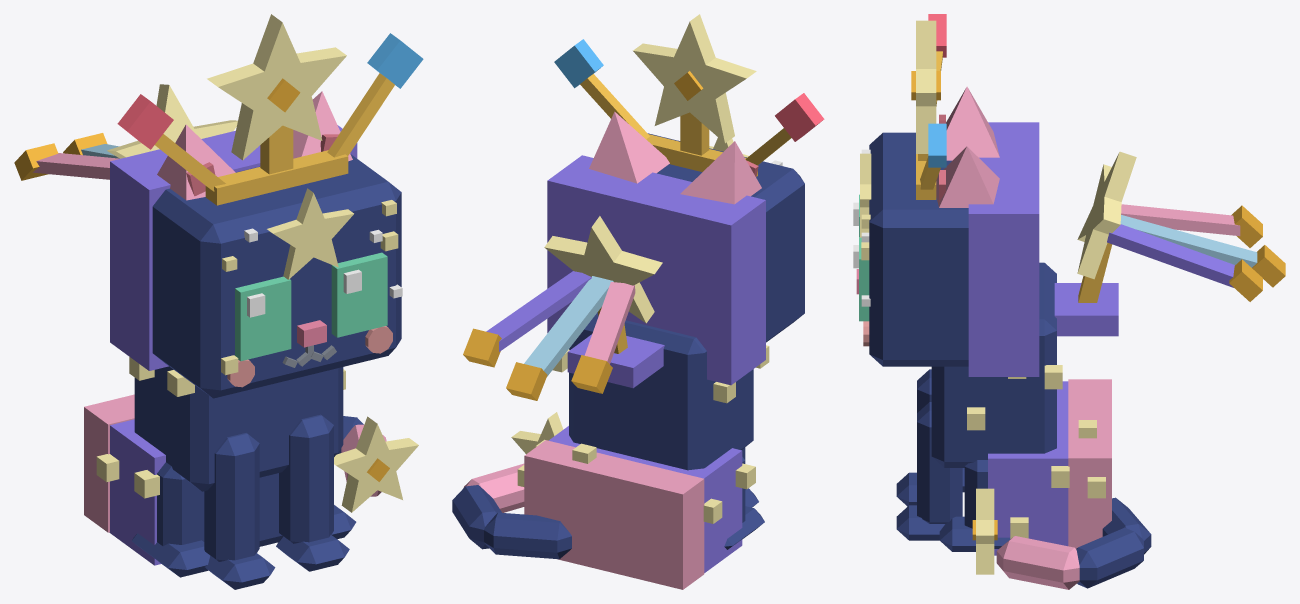
The model's file is CleanACat_Cat_Stardust_Sit.fbx.
3 views of the same model, side by side, from view 1: azimuth 30°, elevation 25°; view 2: azimuth 150°, elevation 25°; view 3: azimuth 270°, elevation 25° (orthographic). The views are drawn at different scales.
Parts seen in each view (by area): view 1: CleanACat_Cat_Stardust_Sit_Head, CleanACat_Cat_Stardust_Sit_Body, CleanACat_Cat_Stardust_Sit_Prop, CleanACat_Cat_Stardust_Sit_LegF2, CleanACat_Cat_Stardust_Sit_LegF1, CleanACat_Cat_Stardust_Sit_Eye2, CleanACat_Cat_Stardust_Sit_Eye1, CleanACat_Cat_Stardust_Sit_Prop2, CleanACat_Cat_Stardust_Sit_Glow, CleanACat_Cat_Stardust_Sit_Tail_Star, CleanACat_Cat_Stardust_Sit_EarR, CleanACat_Cat_Stardust_Sit_EarL (+2 smaller); view 2: CleanACat_Cat_Stardust_Sit_Body, CleanACat_Cat_Stardust_Sit_Head, CleanACat_Cat_Stardust_Sit_Prop2, CleanACat_Cat_Stardust_Sit_Prop, CleanACat_Cat_Stardust_Sit_Tail, CleanACat_Cat_Stardust_Sit_Comet_Glow, CleanACat_Cat_Stardust_Sit_EarL, CleanACat_Cat_Stardust_Sit_Glow, CleanACat_Cat_Stardust_Sit_EarR, CleanACat_Cat_Stardust_Sit_Tail_Star; view 3: CleanACat_Cat_Stardust_Sit_Head, CleanACat_Cat_Stardust_Sit_Body, CleanACat_Cat_Stardust_Sit_Prop2, CleanACat_Cat_Stardust_Sit_Tail, CleanACat_Cat_Stardust_Sit_LegF1, CleanACat_Cat_Stardust_Sit_Prop, CleanACat_Cat_Stardust_Sit_EarL, CleanACat_Cat_Stardust_Sit_Comet_Glow, CleanACat_Cat_Stardust_Sit_EarR, CleanACat_Cat_Stardust_Sit_Glow, CleanACat_Cat_Stardust_Sit_Tail_Star, CleanACat_Cat_Stardust_Sit_LegF2 (+1 smaller).
Part boxes in pixels (box(x1,y1,x2,y2)): CleanACat_Cat_Stardust_Sit_Head: box(110, 125, 402, 398); CleanACat_Cat_Stardust_Sit_Body: box(84, 357, 356, 577); CleanACat_Cat_Stardust_Sit_Prop: box(155, 14, 394, 205); CleanACat_Cat_Stardust_Sit_LegF2: box(204, 433, 275, 589); CleanACat_Cat_Stardust_Sit_LegF1: box(276, 414, 349, 571); CleanACat_Cat_Stardust_Sit_Eye2: box(235, 276, 291, 361); CleanACat_Cat_Stardust_Sit_Eye1: box(331, 252, 387, 337); CleanACat_Cat_Stardust_Sit_Prop2: box(32, 84, 237, 179); CleanACat_Cat_Stardust_Sit_Glow: box(117, 33, 423, 149); CleanACat_Cat_Stardust_Sit_Tail_Star: box(334, 416, 418, 512); CleanACat_Cat_Stardust_Sit_EarR: box(157, 124, 235, 200); CleanACat_Cat_Stardust_Sit_EarL: box(293, 91, 352, 161); CleanACat_Cat_Stardust_Sit_Body: box(517, 313, 769, 589); CleanACat_Cat_Stardust_Sit_Head: box(547, 133, 804, 385); CleanACat_Cat_Stardust_Sit_Prop2: box(486, 216, 664, 388); CleanACat_Cat_Stardust_Sit_Prop: box(580, 14, 791, 176); CleanACat_Cat_Stardust_Sit_Tail: box(452, 463, 571, 559); CleanACat_Cat_Stardust_Sit_Comet_Glow: box(463, 328, 612, 400); CleanACat_Cat_Stardust_Sit_EarL: box(589, 111, 669, 183); CleanACat_Cat_Stardust_Sit_Glow: box(554, 39, 824, 141); CleanACat_Cat_Stardust_Sit_EarR: box(680, 141, 761, 204); CleanACat_Cat_Stardust_Sit_Tail_Star: box(511, 412, 563, 454); CleanACat_Cat_Stardust_Sit_Head: box(856, 122, 1039, 376); CleanACat_Cat_Stardust_Sit_Body: box(931, 262, 1111, 555); CleanACat_Cat_Stardust_Sit_Prop2: box(1054, 151, 1257, 336); CleanACat_Cat_Stardust_Sit_Tail: box(996, 497, 1151, 589); CleanACat_Cat_Stardust_Sit_LegF1: box(896, 402, 962, 540); CleanACat_Cat_Stardust_Sit_Prop: box(916, 20, 942, 199); CleanACat_Cat_Stardust_Sit_EarL: box(936, 146, 999, 207); CleanACat_Cat_Stardust_Sit_Comet_Glow: box(1229, 205, 1285, 301); CleanACat_Cat_Stardust_Sit_EarR: box(939, 86, 999, 160); CleanACat_Cat_Stardust_Sit_Glow: box(911, 14, 946, 167); CleanACat_Cat_Stardust_Sit_Tail_Star: box(976, 488, 994, 574); CleanACat_Cat_Stardust_Sit_LegF2: box(896, 369, 931, 506).
Size of the model in its own units: 1.45 by 2.29 by 1.8.
1 material, 1 textured.
